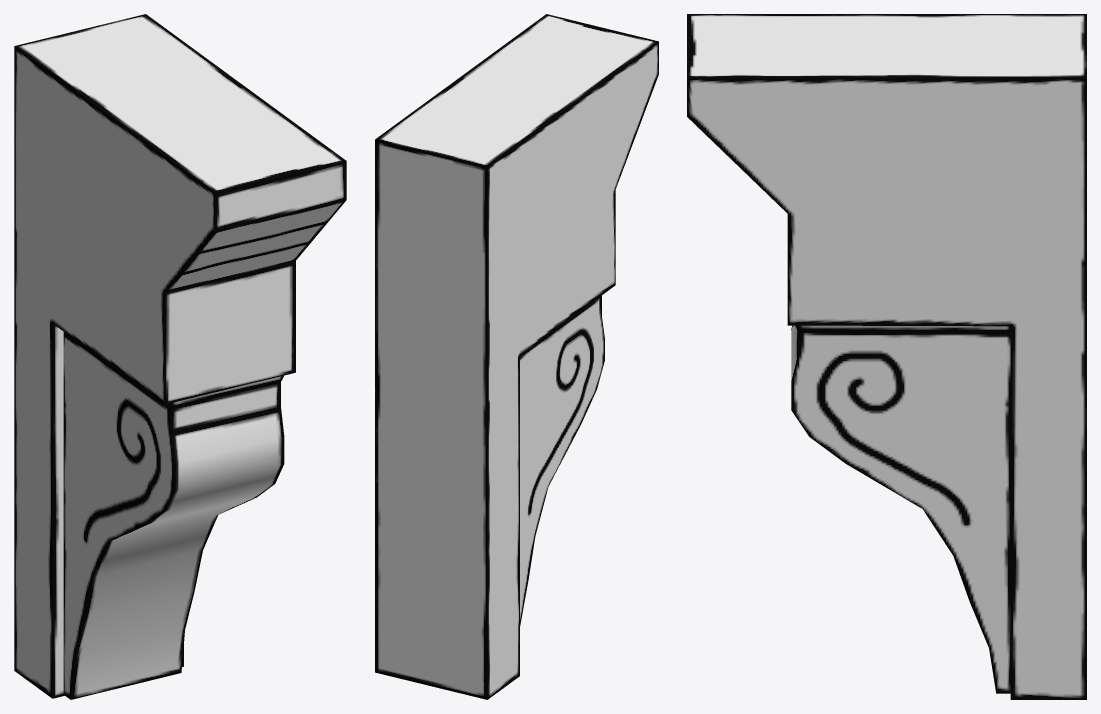
Rendered from Trim02_post.glb.
3 views of the same model, side by side, from view 1: azimuth 30°, elevation 25°; view 2: azimuth 150°, elevation 25°; view 3: azimuth 270°, elevation 25° (orthographic). The views are drawn at different scales.
Parts seen in each view (by area): view 1: Trim02_post; view 2: Trim02_post; view 3: Trim02_post.
Boxes of the visible parts, x1=… form: Trim02_post: x1=14, y1=14, x2=346, y2=699; Trim02_post: x1=375, y1=14, x2=658, y2=699; Trim02_post: x1=687, y1=14, x2=1086, y2=699.
Size of the model in its own units: 0.1998 by 0.9062 by 0.5279.
Materials: 1 (1 with a texture image).
